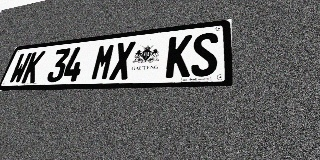3: (46, 48, 71, 82)
4: (61, 46, 87, 82)
K: (165, 35, 193, 78), (21, 51, 46, 83)
M: (90, 43, 117, 81)
S: (191, 32, 218, 77)
W: (8, 52, 33, 84)
X: (109, 41, 136, 80)
